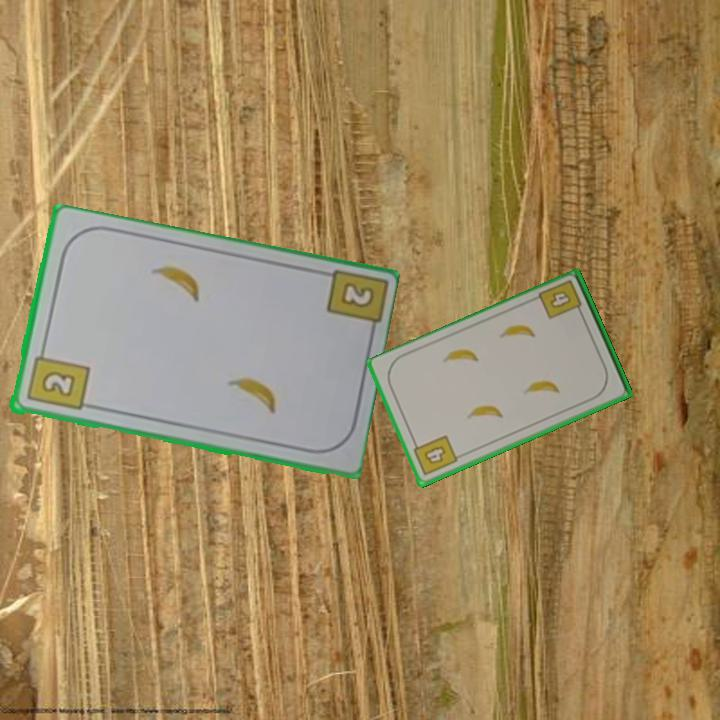2b: (23, 344, 91, 414), (336, 278, 377, 311)
4b: (409, 432, 460, 479), (535, 276, 586, 322)
